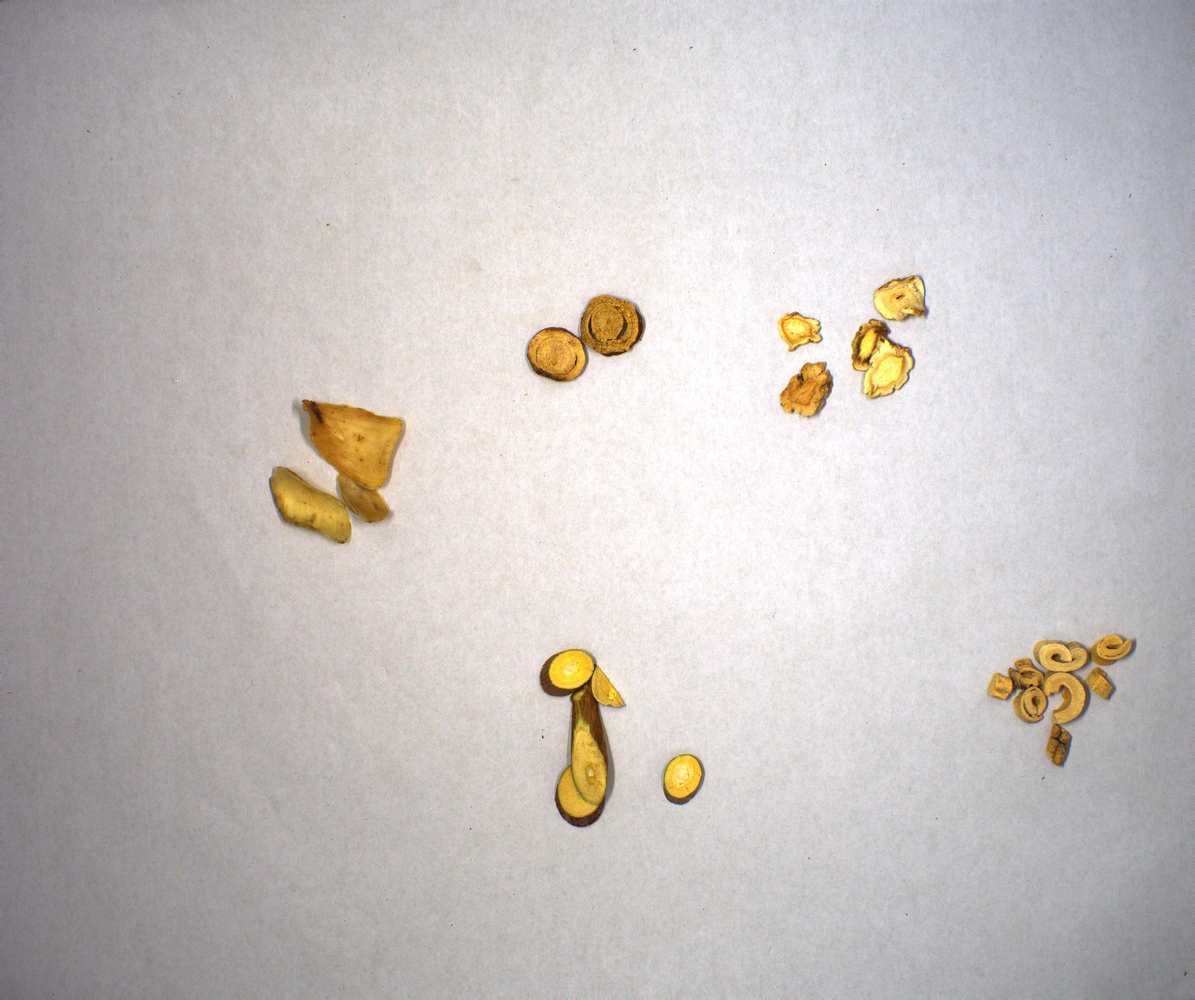baihe: (256, 373, 416, 544)
baixianpi: (959, 629, 1154, 781)
gancao: (499, 276, 649, 389)
jiegeng: (765, 274, 945, 425)
sangzhi: (526, 637, 718, 834)
